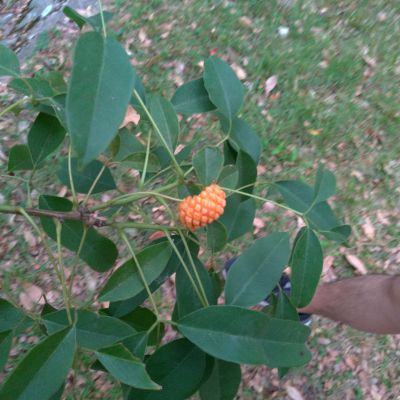eggs: (171, 178, 233, 233)
